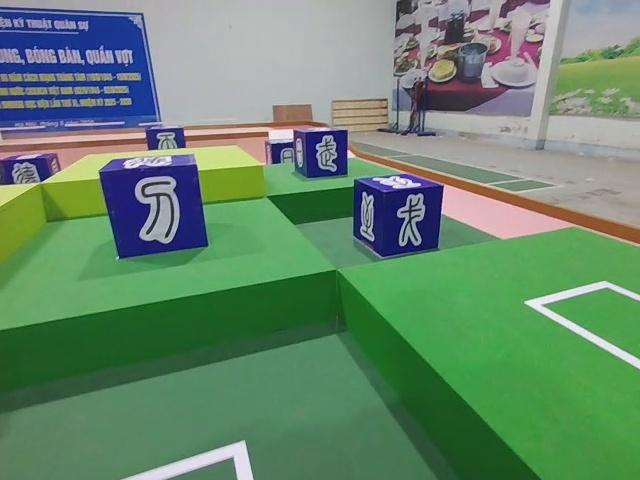R2 Fake Blue: (95, 153, 210, 259), (352, 170, 442, 256), (294, 124, 347, 182), (0, 151, 61, 188), (142, 122, 187, 150), (263, 136, 293, 166)
